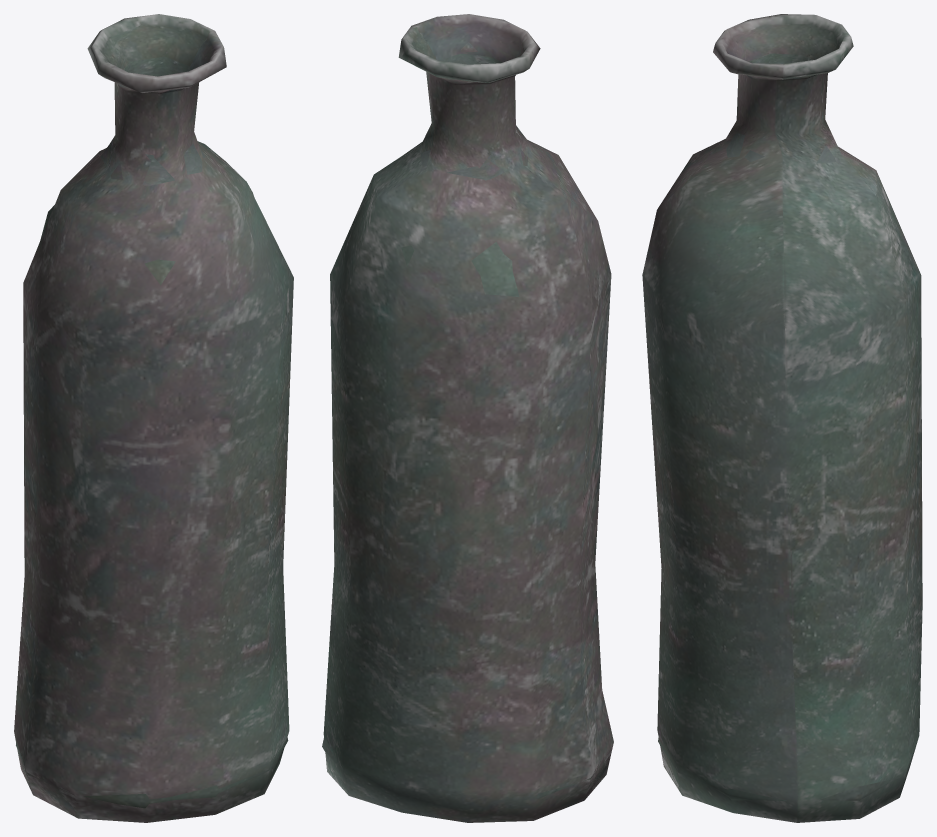
Rendered from SM_Bottle_01.fbx.
3 views of the same model, side by side, from view 1: azimuth 30°, elevation 25°; view 2: azimuth 150°, elevation 25°; view 3: azimuth 270°, elevation 25° (orthographic).
Parts seen in each view (by area): view 1: SM_Bottle_01_LOD0; view 2: SM_Bottle_01_LOD0; view 3: SM_Bottle_01_LOD0.
Boxes of the visible parts, bbox=[...] form: SM_Bottle_01_LOD0: bbox=[14, 14, 293, 822]; SM_Bottle_01_LOD0: bbox=[322, 14, 613, 822]; SM_Bottle_01_LOD0: bbox=[642, 14, 922, 822].
Bounding box in the file's own units: 10.9 × 10.52 × 30.39.
1 material, 1 textured.
